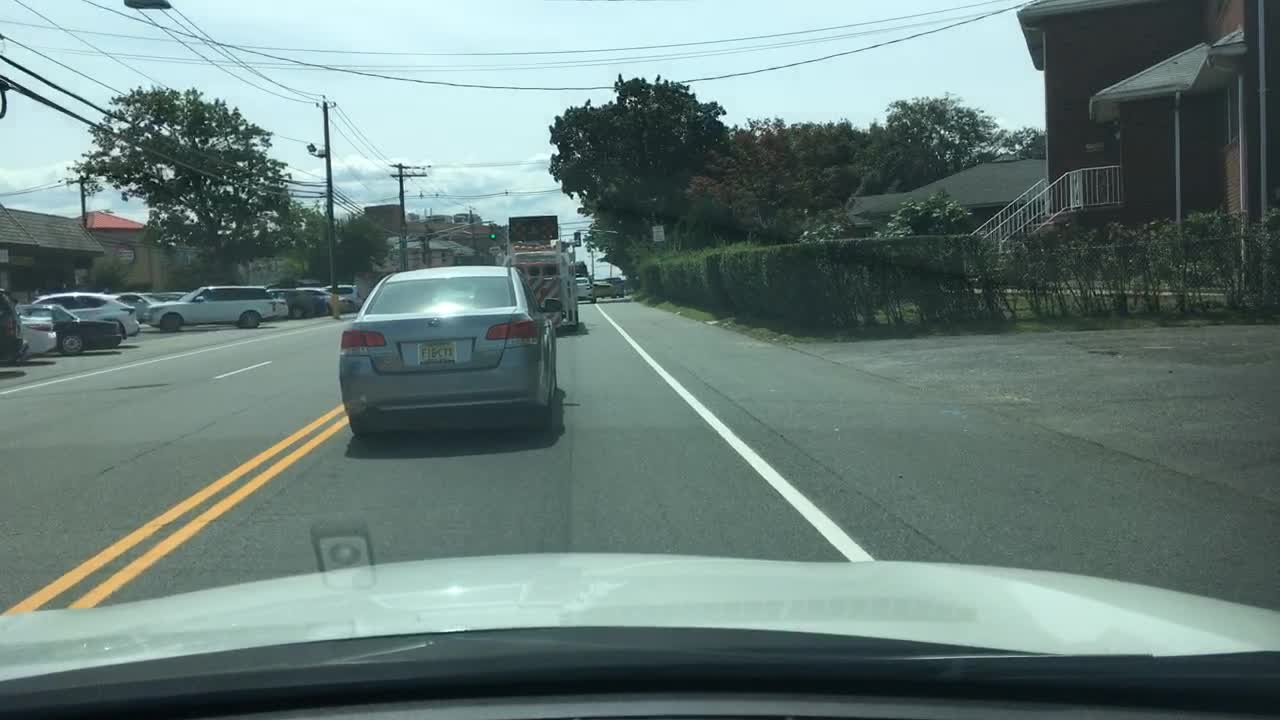car: (336, 264, 566, 427), (139, 283, 275, 329), (18, 305, 123, 358), (34, 294, 139, 340), (269, 286, 325, 321), (1, 291, 24, 366), (17, 314, 54, 360), (300, 286, 339, 320), (319, 283, 360, 313), (121, 291, 153, 321), (145, 289, 187, 306), (262, 293, 286, 320), (573, 279, 596, 306), (592, 279, 616, 301), (605, 275, 627, 295)
traffic light: (487, 225, 496, 244)
traffic sign: (652, 225, 667, 242)
truck: (496, 215, 581, 328)
